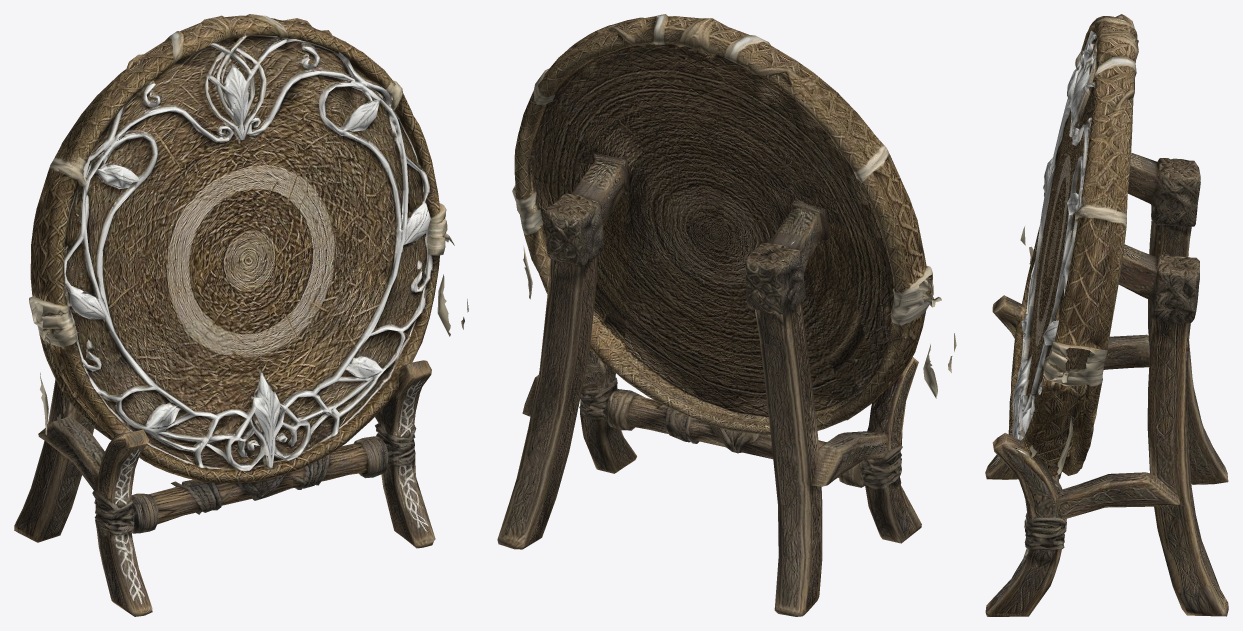
Rendered from archery-target.glb.
3 renders of one model, left to right at view 1: azimuth 30°, elevation 25°; view 2: azimuth 150°, elevation 25°; view 3: azimuth 270°, elevation 25°, orthographic.
Parts seen in each view (by area): view 1: mesh_node; view 2: mesh_node; view 3: mesh_node.
Boxes of the visible parts, x1,y1,x2,y2 form: mesh_node: [14, 14, 468, 616]; mesh_node: [497, 14, 956, 616]; mesh_node: [985, 14, 1228, 616].
Bounding box in the file's own units: 1.32 × 1.61 × 0.6922.
1 material, 1 textured.
